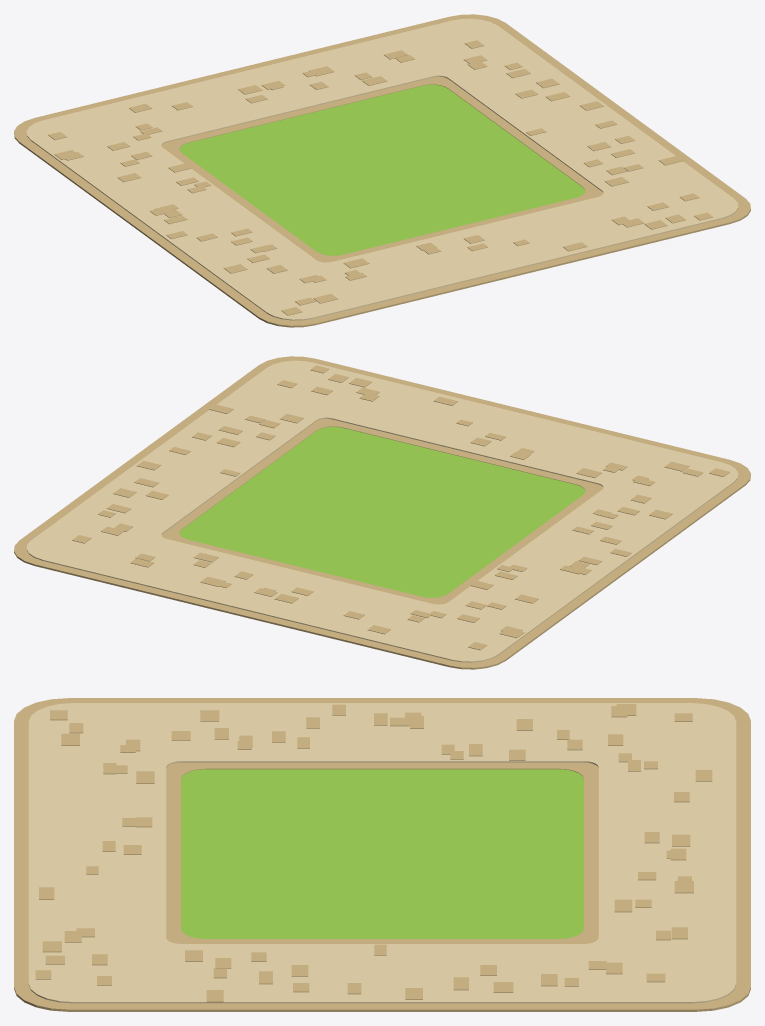
The model's file is plaza_cuadrada_sin_brazos.glb.
The picture shows the model from 3 angles, top to bottom: view 1: azimuth 30°, elevation 25°; view 2: azimuth 150°, elevation 25°; view 3: azimuth 270°, elevation 25°; orthographic projection. The views are drawn at different scales.
Visible parts, largest first — view 1: plaza, cesped, plaza_borde, adoquines; view 2: plaza, cesped, plaza_borde, adoquines; view 3: plaza, cesped, plaza_borde, adoquines.
Part boxes in pixels (x1,y1,x2,y2): plaza: (26, 18, 738, 320); cesped: (179, 84, 585, 255); plaza_borde: (14, 14, 750, 327); adoquines: (48, 40, 712, 315); plaza: (26, 360, 738, 662); cesped: (179, 426, 585, 597); plaza_borde: (14, 356, 750, 669); adoquines: (72, 365, 729, 650); plaza: (28, 703, 736, 1003); cesped: (181, 769, 583, 938); plaza_borde: (14, 698, 750, 1011); adoquines: (35, 704, 712, 1002).
Size of the model in its own units: 15 by 0.095 by 15.
